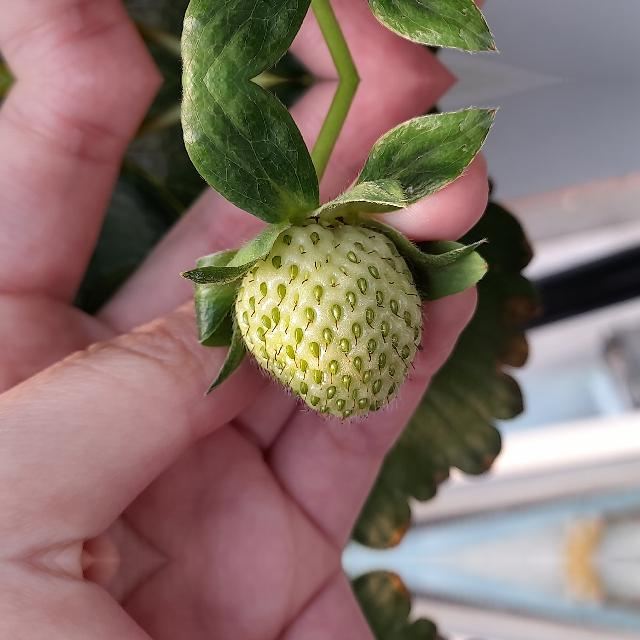Health_25: (230, 221, 428, 427)
